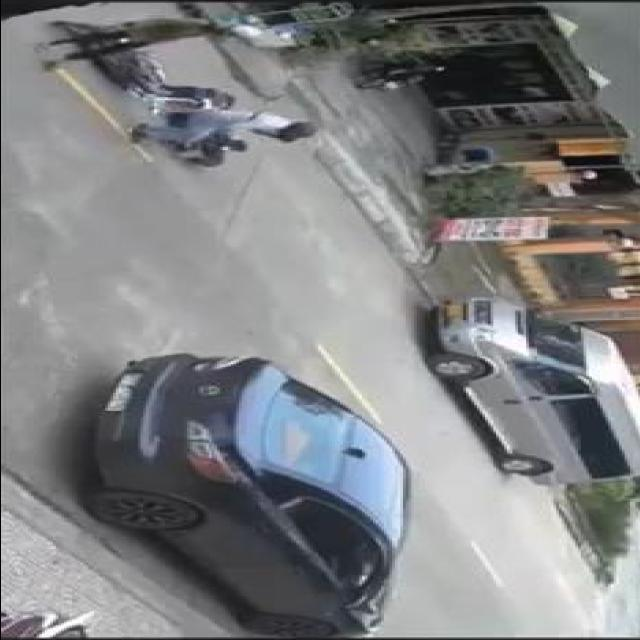accident: (36, 10, 328, 170)
